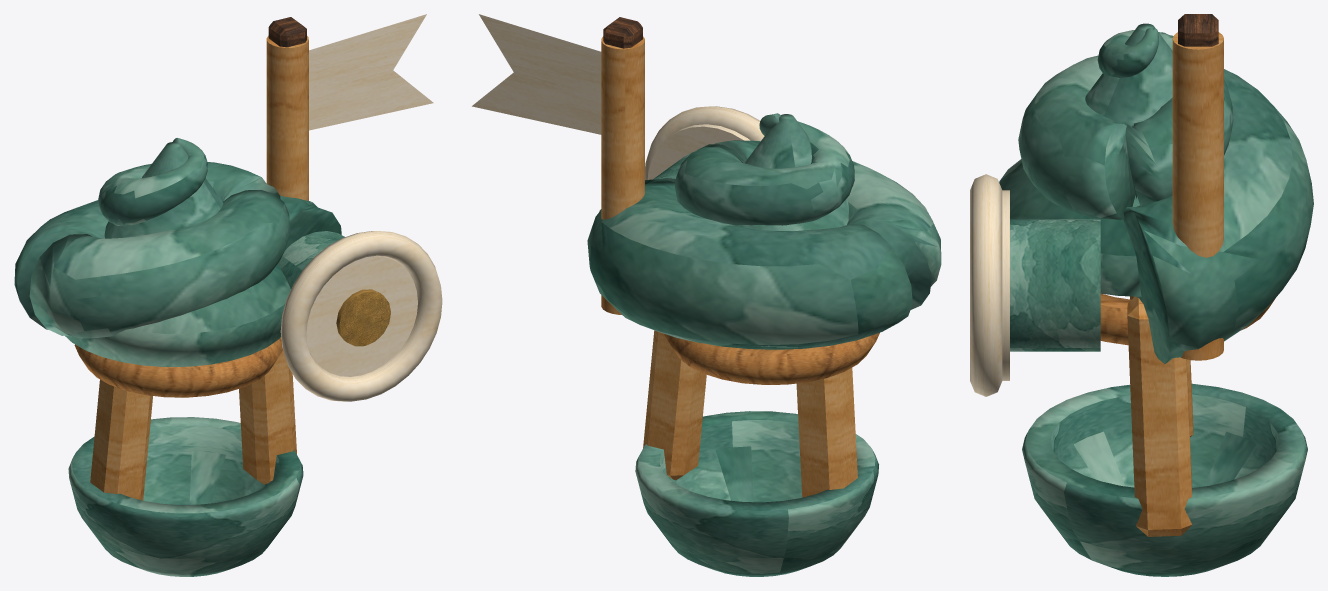
File: 04_BK候选_未校准.glb
The picture shows the model from 3 angles, left to right: view 1: azimuth 30°, elevation 25°; view 2: azimuth 150°, elevation 25°; view 3: azimuth 270°, elevation 25°; orthographic projection. The views are drawn at different scales.
Visible parts, largest first — view 1: conch_signal; view 2: conch_signal; view 3: conch_signal.
Boxes of the visible parts, x1,y1,x2,y2 form: conch_signal: [14, 14, 442, 576]; conch_signal: [472, 14, 941, 576]; conch_signal: [970, 14, 1313, 576].
Bounding box in the file's own units: 1.25 × 1.37 × 0.7214.
1 material, 1 textured.
